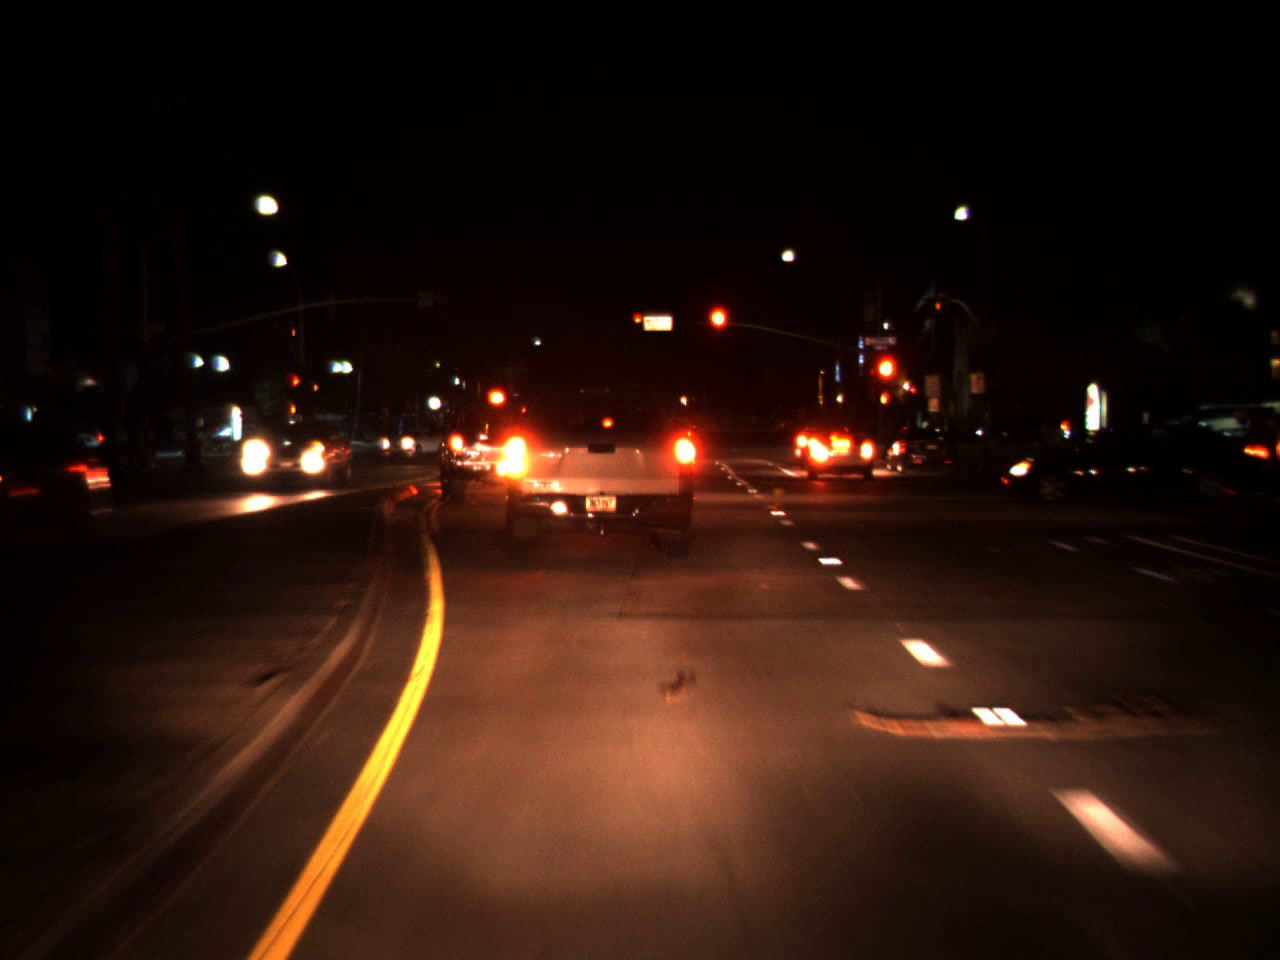stop: (872, 350, 900, 414), (705, 303, 730, 357), (632, 313, 644, 331), (291, 375, 300, 396)
